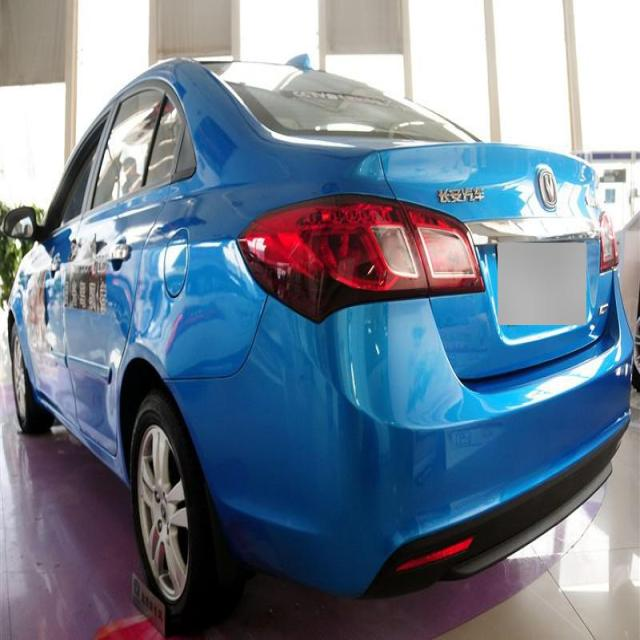back_glass: (199, 59, 485, 150)
back_left_side_light: (232, 193, 486, 327)
back_right_side_light: (598, 209, 621, 276)
front_left_side_door: (30, 100, 120, 456)
front_left_side_mirror: (2, 205, 50, 245)
rear_bumper: (165, 265, 640, 603)
wheel: (128, 389, 238, 604), (10, 323, 52, 434)
